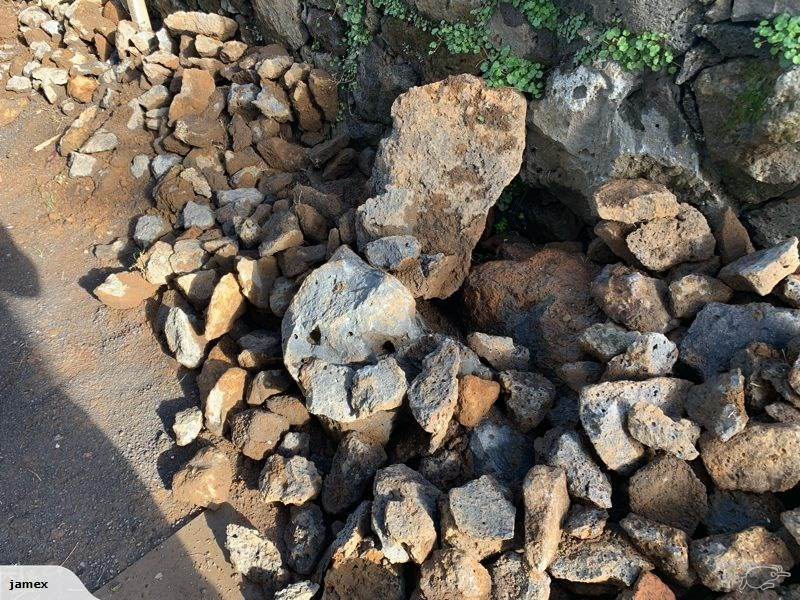volcanic_rock: (284, 254, 449, 419), (568, 370, 708, 466), (561, 313, 684, 372), (408, 340, 470, 454), (519, 462, 580, 572), (614, 509, 698, 584), (443, 472, 523, 548), (208, 525, 296, 591)
